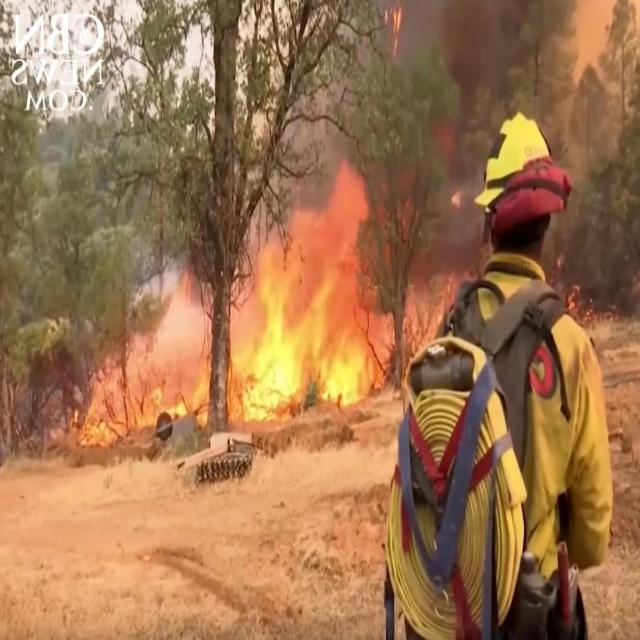fire: (226, 155, 385, 420), (87, 262, 209, 438)
